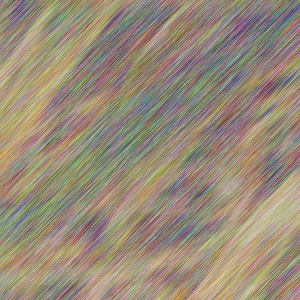Leaf_Blast: (1, 156, 109, 236)
